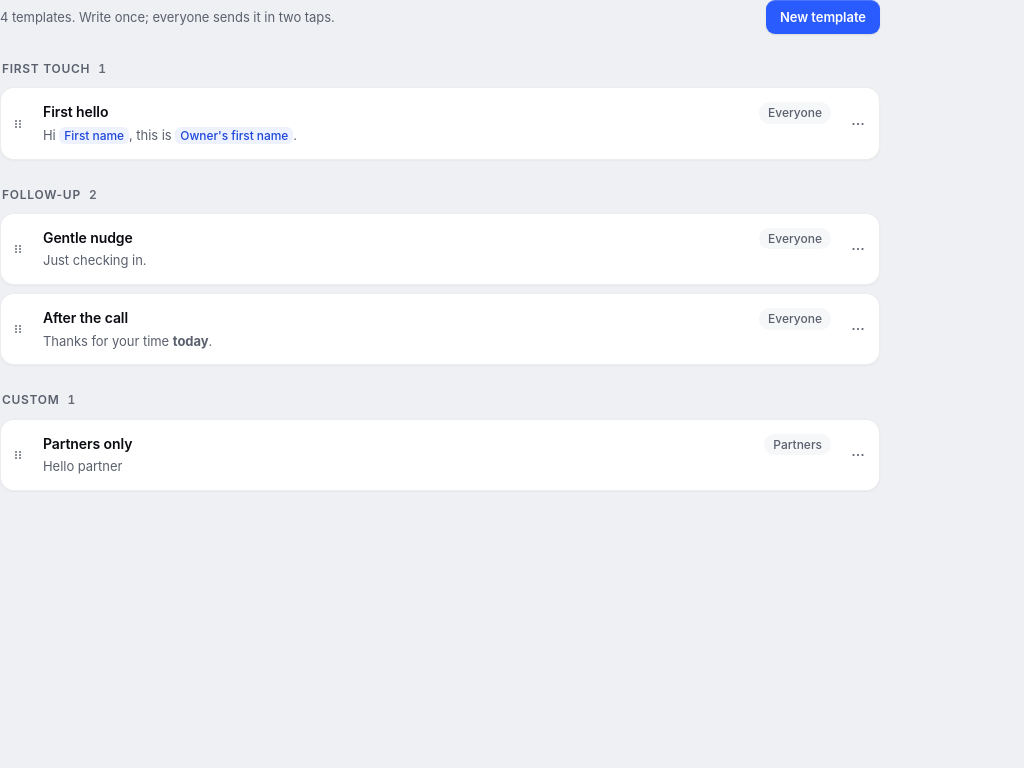
Scenario: the template library (4A Task 5) › if the read-back doesn't match, it still closes but doesn't claim it was checked
Click the button "New template" at (823, 17), box [766,0,880,34]
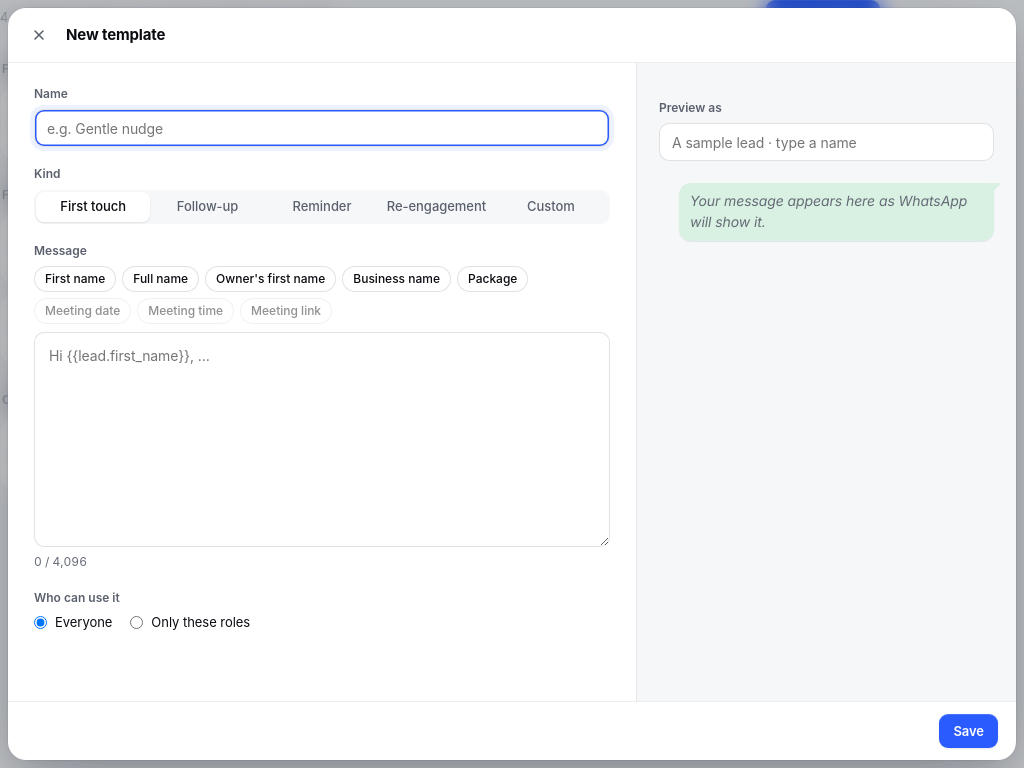
Type "Welcome back" into the field labelled "Name" at (322, 128), box [34,109,610,147]
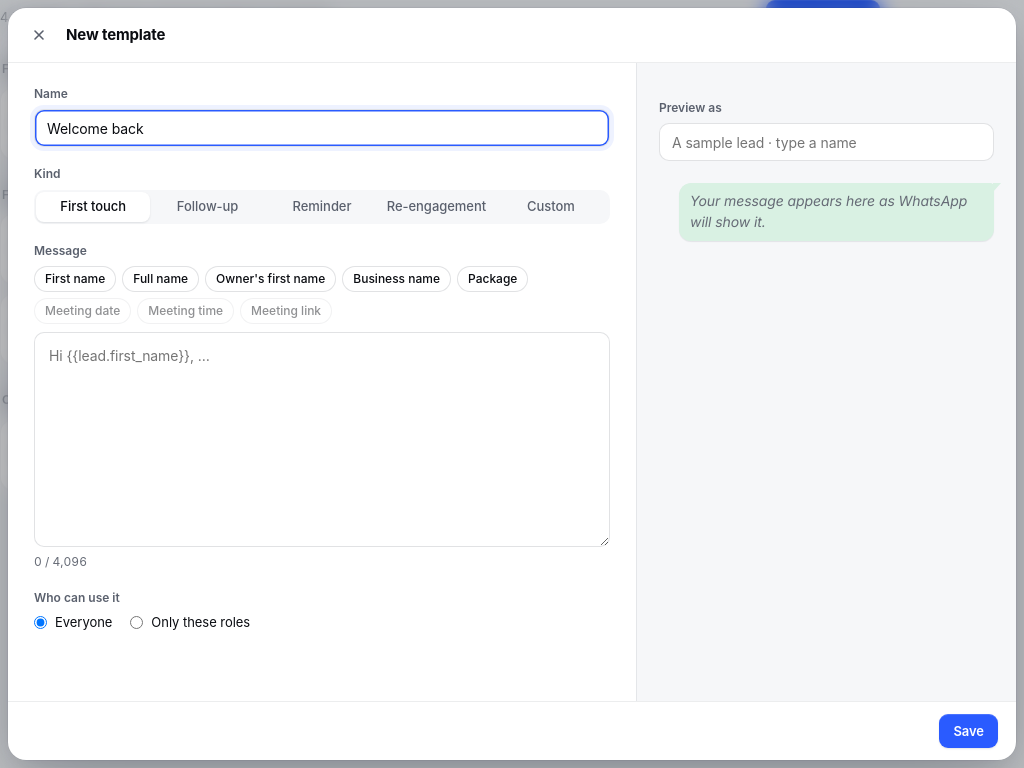
Type "Hello again" into the text box labelled "Message" at (322, 440), box [34,332,610,547]
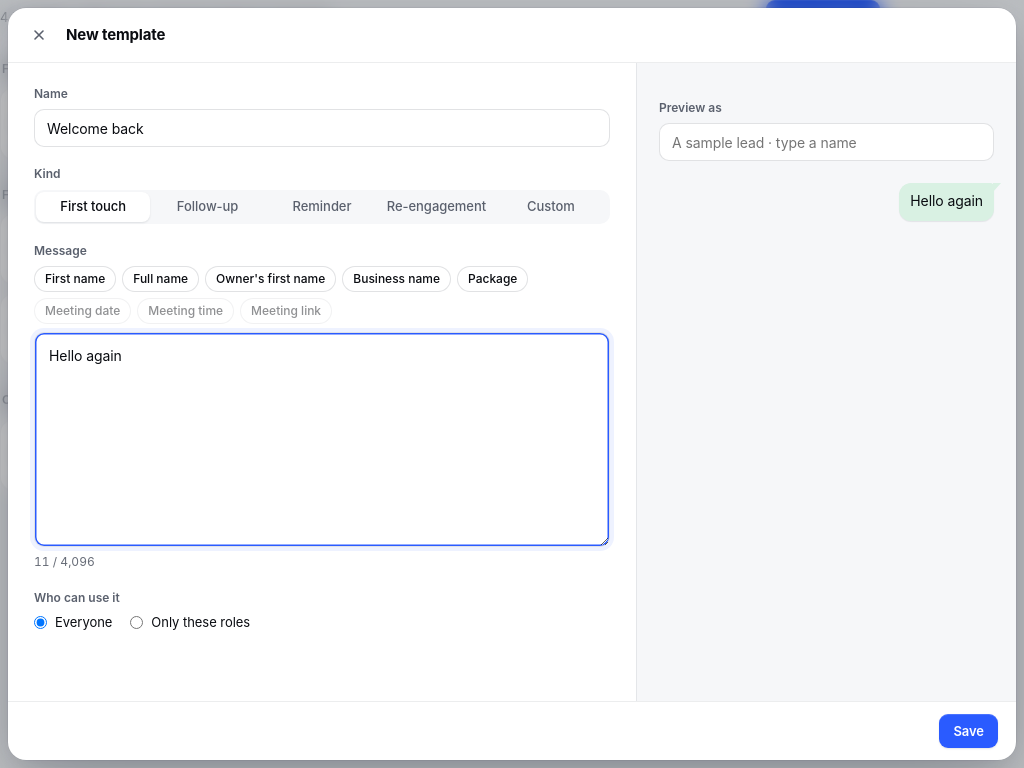
Click the button "Save" at (969, 731), box [939,714,998,748]
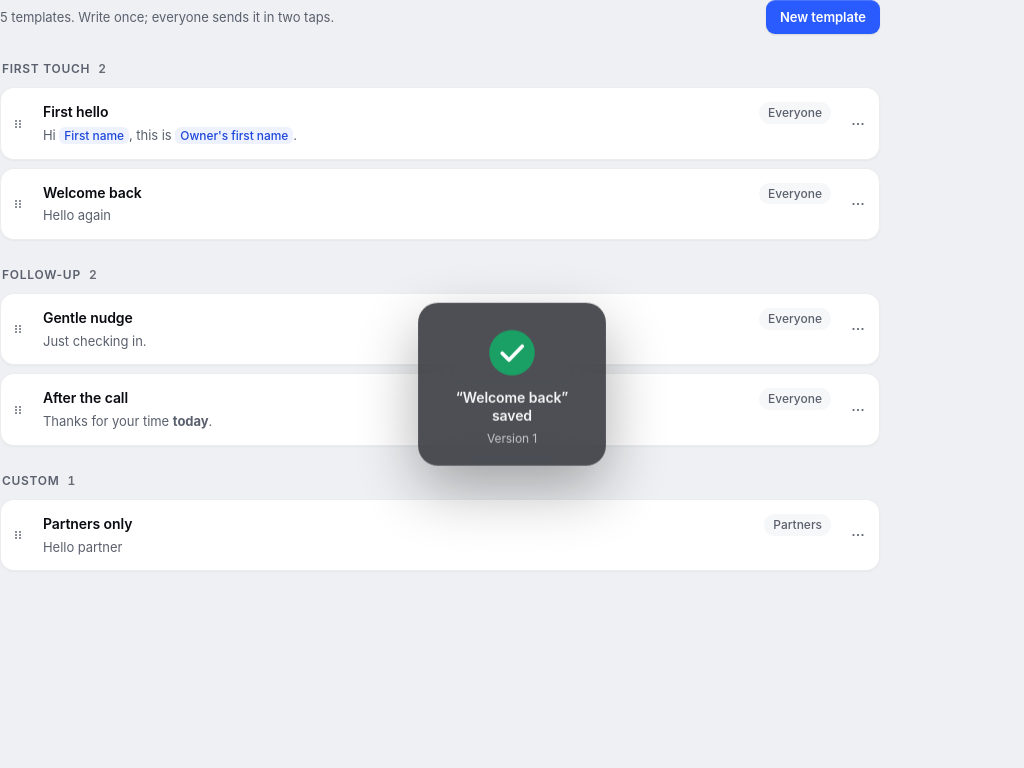
Expected: the dialog is gone
